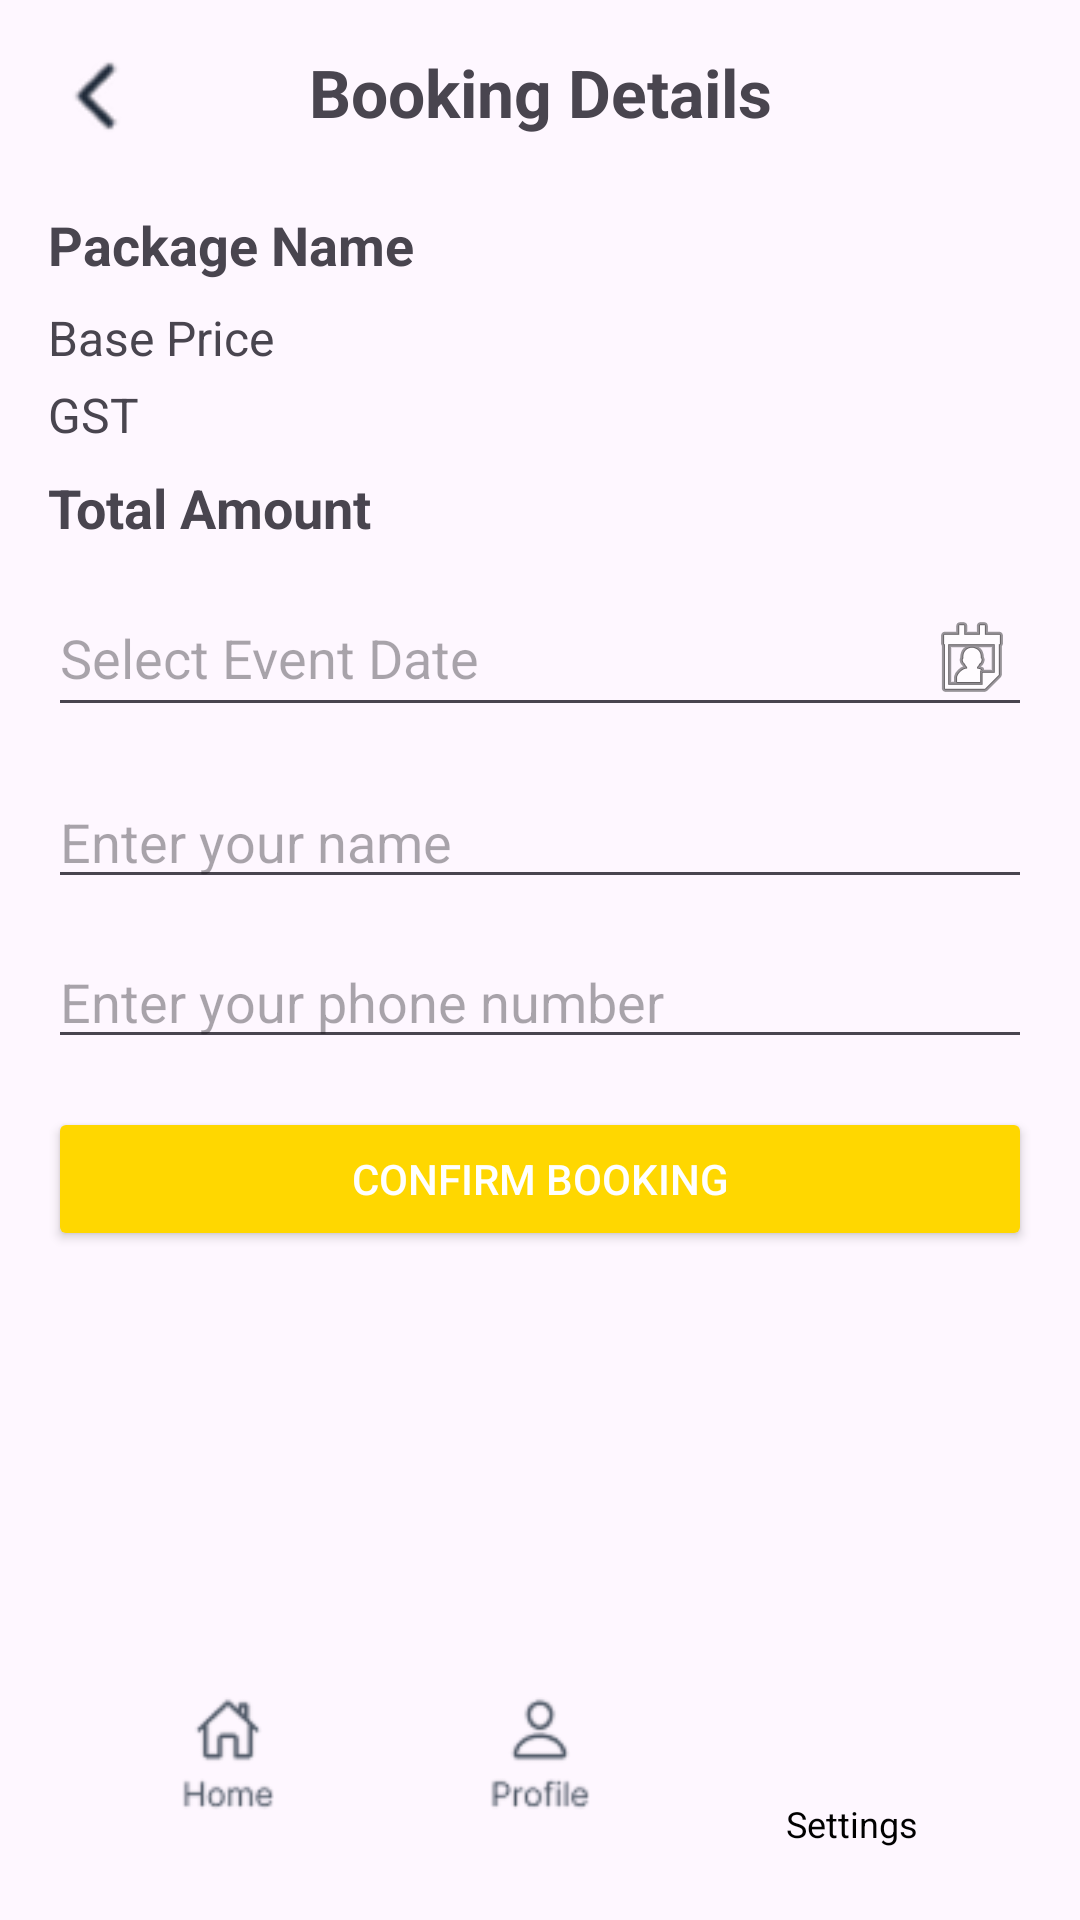

Icons on this 1080px x 1920px Android screen, each with its box as box(x1, y1, x2, y2):
Back: box(75, 62, 117, 130)
